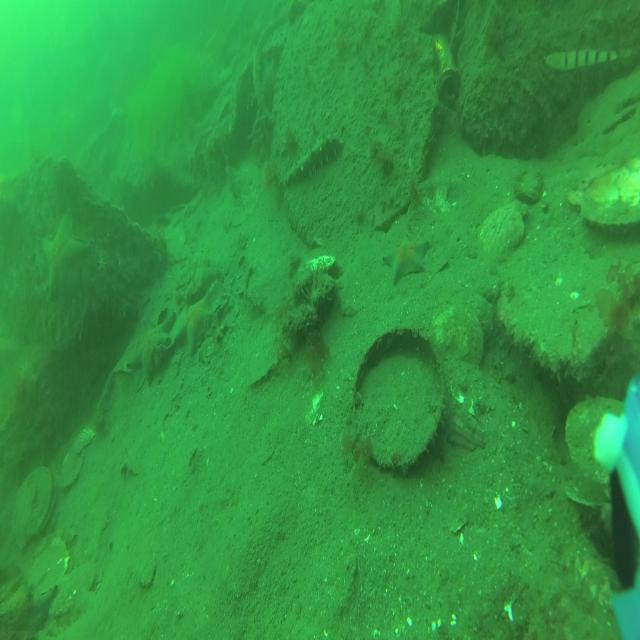holothurian: (282, 134, 341, 191)
scallop: (566, 393, 627, 514), (434, 309, 484, 377), (14, 466, 53, 544)
starfish: (40, 208, 90, 294), (126, 307, 177, 385), (172, 295, 216, 358), (384, 235, 431, 284)
